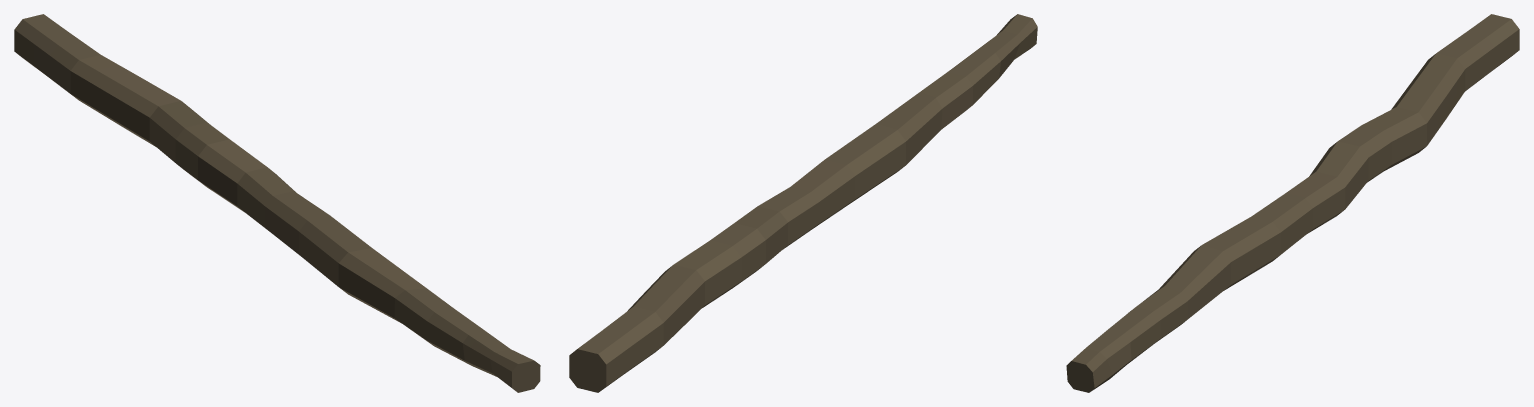
Rendered from OakStick.fbx.
3 views of the same model, side by side, from view 1: azimuth 30°, elevation 25°; view 2: azimuth 150°, elevation 25°; view 3: azimuth 330°, elevation 25° (orthographic). The views are drawn at different scales.
Visible parts, largest first — view 1: Cube; view 2: Cube; view 3: Cube.
Part boxes in pixels (x1,y1,x2,y2): Cube: (14,14,540,392); Cube: (569,14,1037,392); Cube: (1066,14,1519,392).
Size of the model in its own units: 77.72 by 62.51 by 1012.
